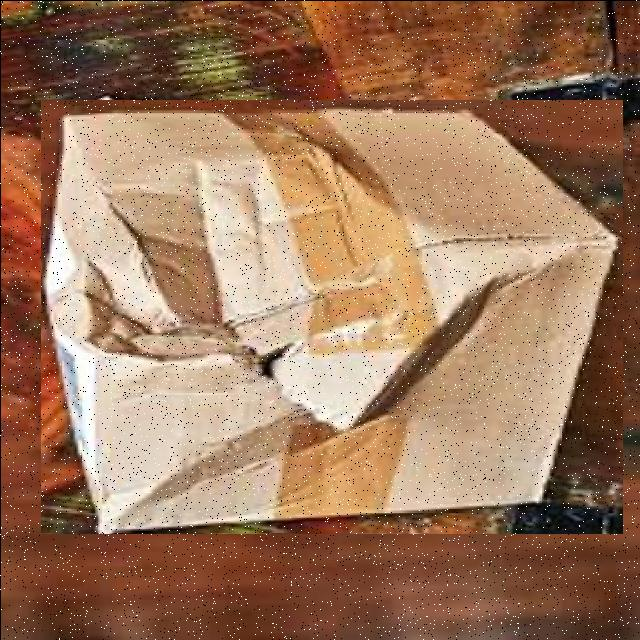defect: (40, 99, 622, 532)
